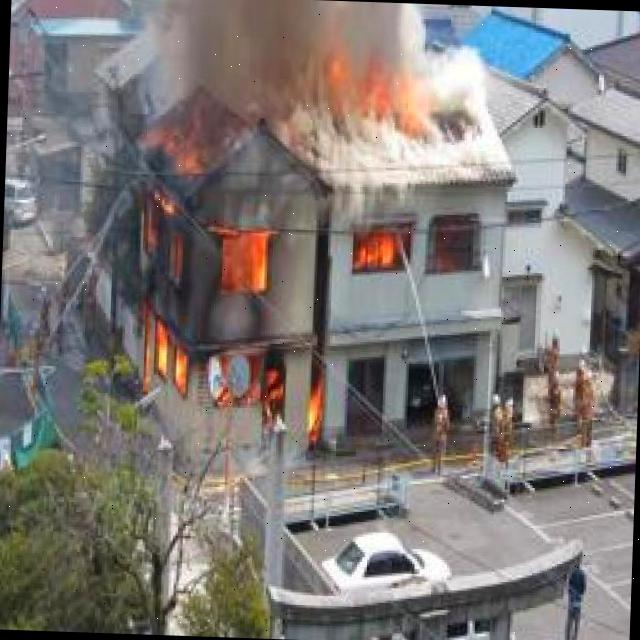fire: (128, 119, 334, 448), (332, 53, 442, 134), (356, 222, 414, 274)
